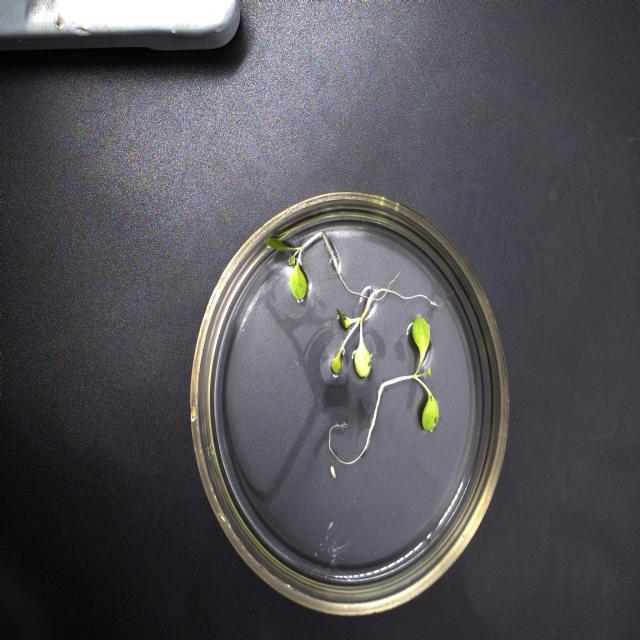leaf: (332, 320, 359, 373), (412, 317, 430, 373), (354, 324, 371, 377), (422, 388, 439, 430), (290, 261, 307, 300), (337, 309, 356, 328), (266, 238, 295, 250), (288, 254, 295, 265), (425, 367, 431, 376)
root: (328, 389, 385, 465), (362, 272, 446, 308), (318, 234, 361, 295), (380, 283, 453, 307), (341, 279, 354, 292)
steb: (383, 376, 414, 388)
